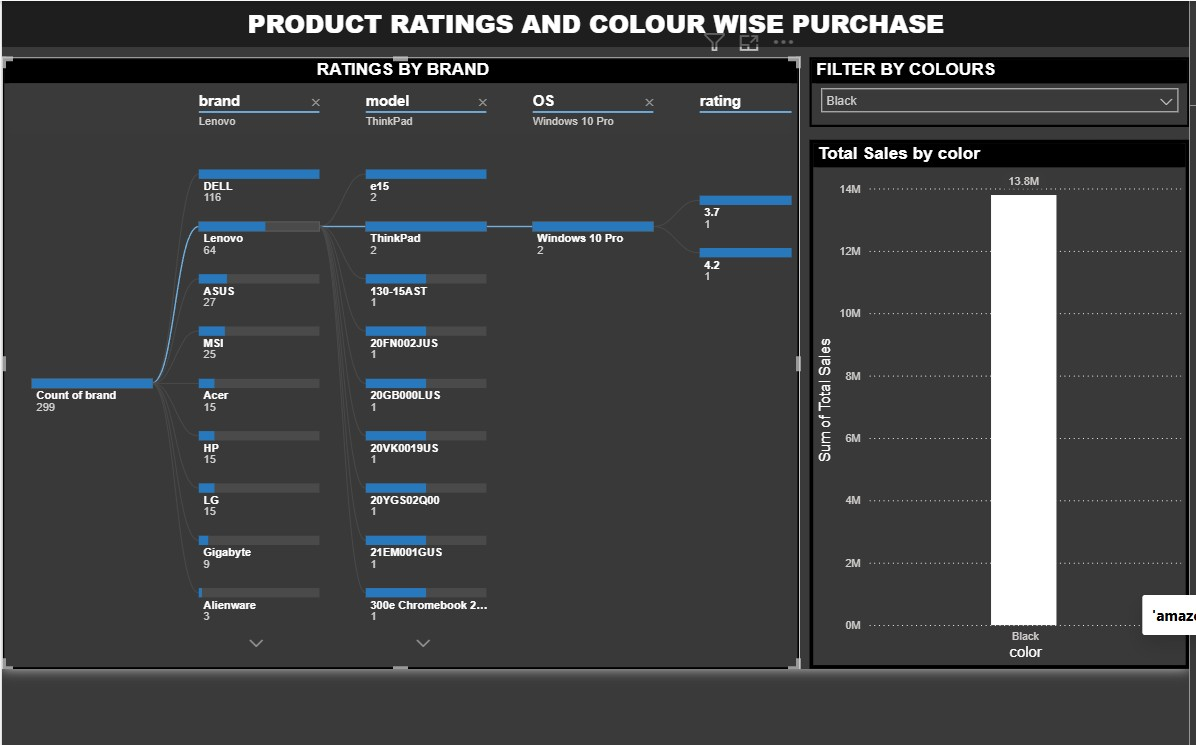

What the dashboard file says about the page in this screenshot:
{"tool":"powerbi","page":{"name":"Page 2","canvas":[1280,720],"ordinal":1},"visuals":[{"type":"decompositionTreeVisual","title":"RATINGS BY BRAND ","fields":{"Analyze":["CountNonNull(amazon_laptop_prices_v01 (1).brand)"],"ExplainBy":["amazon_laptop_prices_v01 (1).brand","amazon_laptop_prices_v01 (1).model","amazon_laptop_prices_v01 (1).OS","amazon_laptop_prices_v01 (1).rating"]},"box":[0,60.6,859.8,660.4],"z":0},{"type":"textbox","box":[0,0,1280.3,49.4],"z":1000},{"type":"lineClusteredColumnComboChart","title":"Total Sales by color","fields":{"Category":["amazon_laptop_prices_v01 (1).color"],"Y":["Sum(amazon_laptop_prices_v01 (1).Total Sales)"]},"box":[870.6,149.6,409.7,570.1],"z":2000},{"type":"slicer","title":"FILTER BY COLOURS","fields":{"Values":["amazon_laptop_prices_v01 (1).color"]},"box":[870.6,60.6,409.7,75.5],"z":2001}]}

Visuals, with their boxes in screenshot pixels (x1, y1, x2, y2):
"RATINGS BY BRAND " decompositionTreeVisual: pyautogui.locateOnScreen(0, 65, 792, 674)
textbox: pyautogui.locateOnScreen(0, 9, 1180, 55)
"Total Sales by color" lineClusteredColumnComboChart: pyautogui.locateOnScreen(802, 147, 1180, 673)
"FILTER BY COLOURS" slicer: pyautogui.locateOnScreen(802, 65, 1180, 135)
